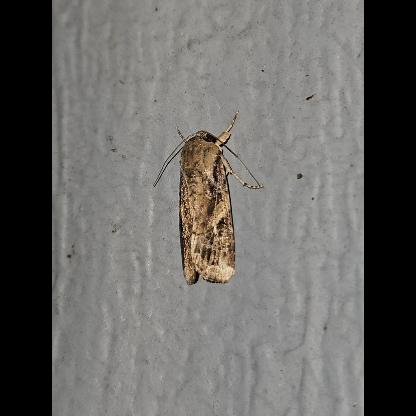Fall Armyworm Moth: (150, 109, 266, 287)
